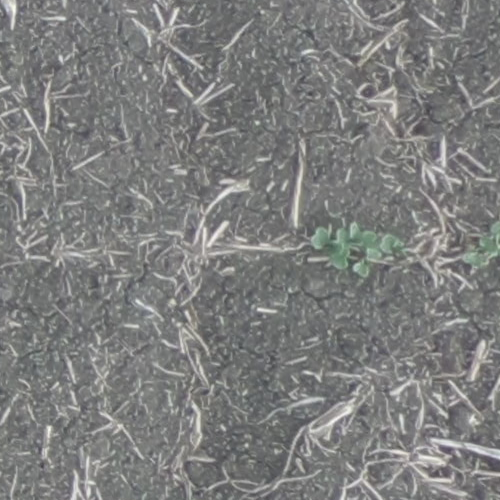plant: (351, 224, 400, 279), (310, 226, 350, 270), (465, 222, 499, 268)
